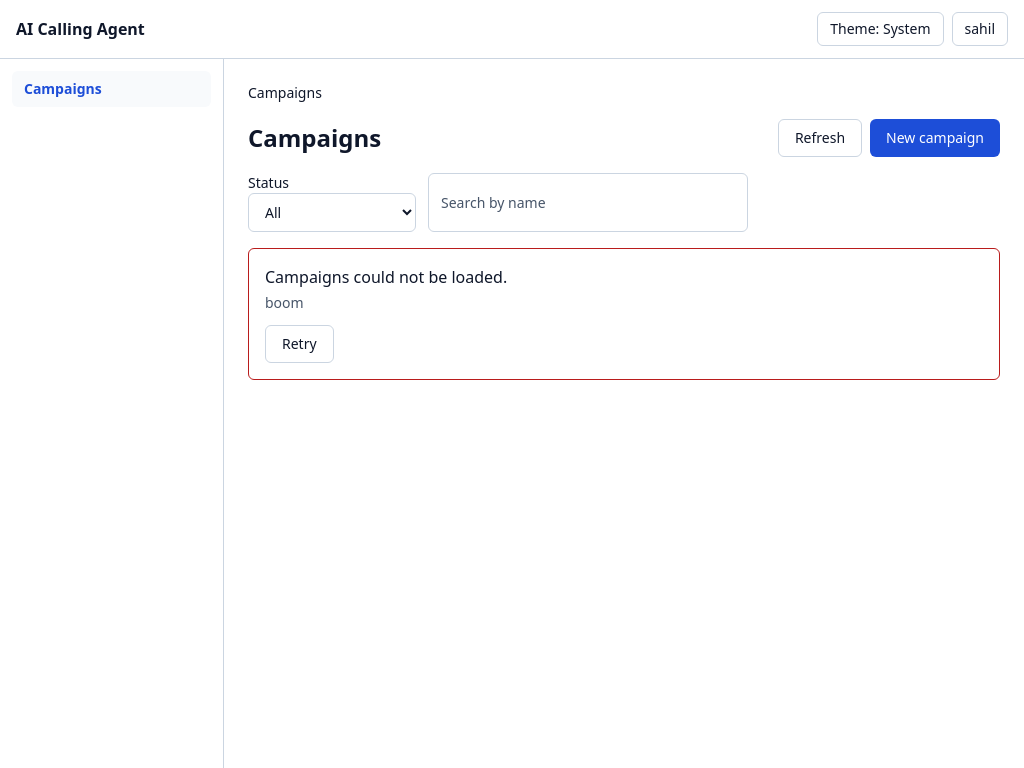
Test case: a failed load shows an error with Retry that recovers
The image size is (1024, 768).
Expected: the message shows "Campaigns could not be loaded.", [265, 266, 507, 288]
Click the button "Retry" at (299, 344), box [265, 325, 334, 363]
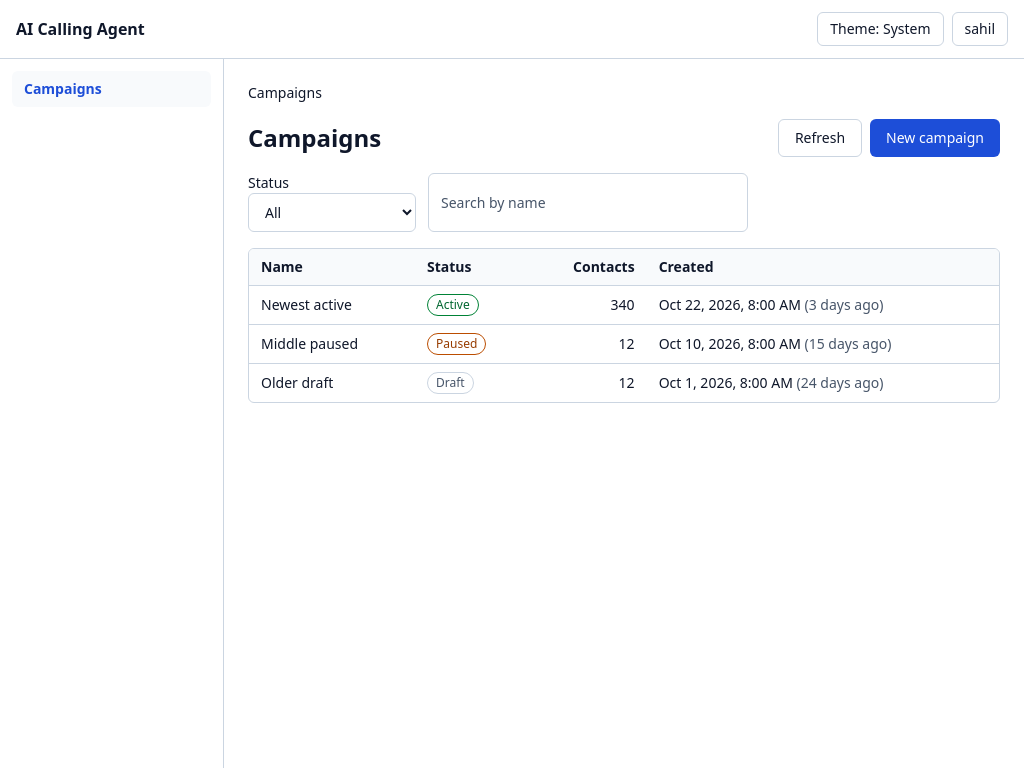
Now the table is shown, box [249, 249, 999, 402]
